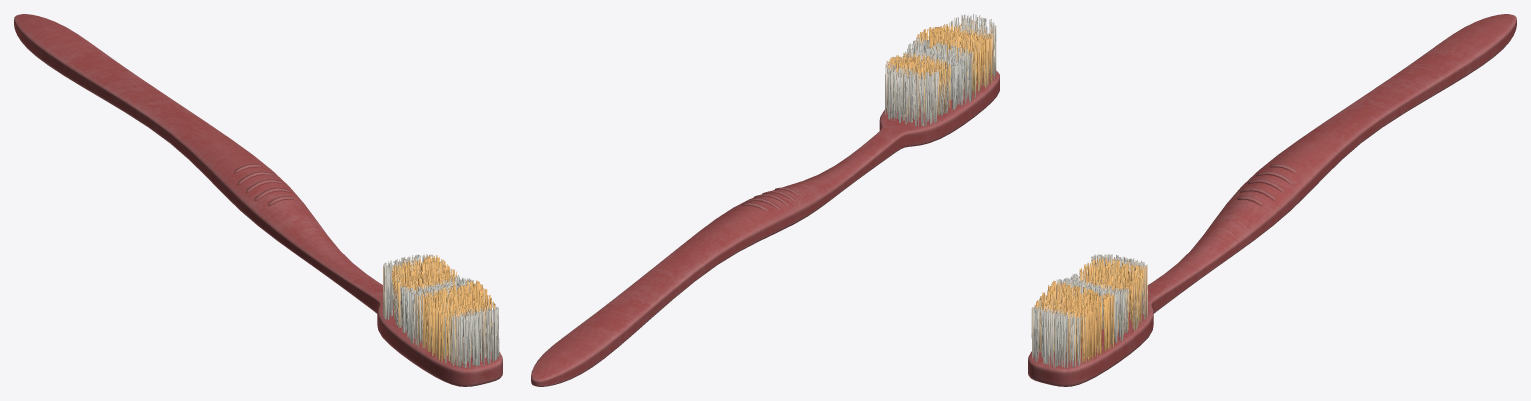
The model's file is generic_tooth_brush.glb.
3 renders of one model, left to right at view 1: azimuth 30°, elevation 25°; view 2: azimuth 150°, elevation 25°; view 3: azimuth 330°, elevation 25°, orthographic. The views are drawn at different scales.
Visible parts, largest first — view 1: Cube; view 2: Cube; view 3: Cube.
Part boxes in pixels (<box>): Cube: <box>14,14,502,386</box>; Cube: <box>531,14,999,386</box>; Cube: <box>1028,14,1516,386</box>.
Bounding box in the file's own units: 0.9423 × 0.9712 × 11.5.
Materials: 2 (2 with a texture image).
